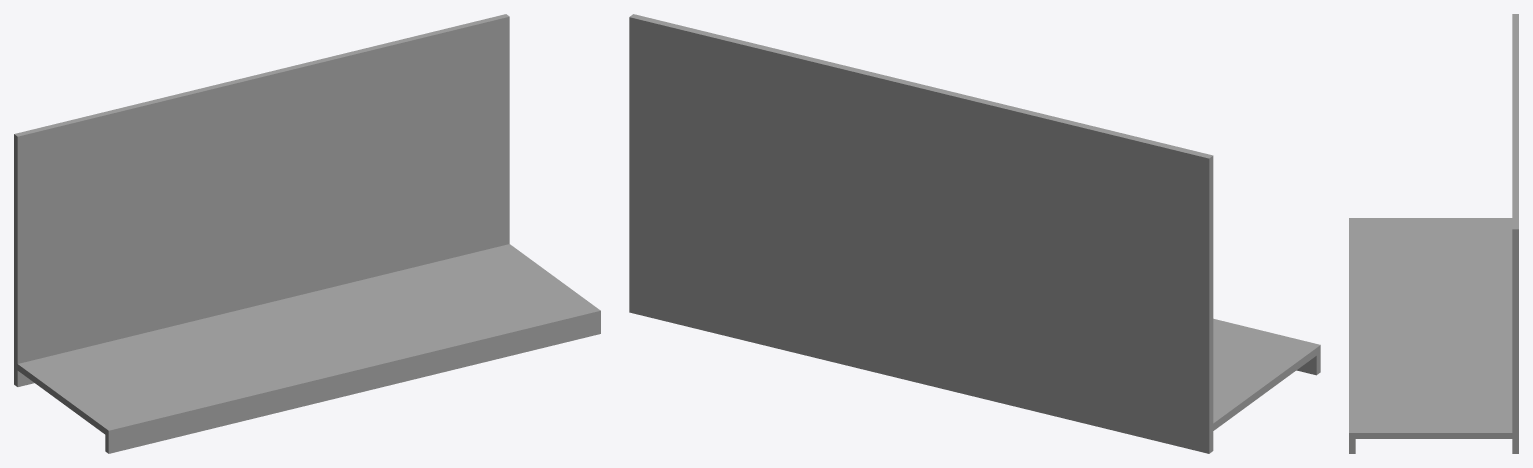
Rendered from meuble_690c0ab61576c.glb.
3 views of the same model, side by side, from view 1: azimuth 30°, elevation 25°; view 2: azimuth 150°, elevation 25°; view 3: azimuth 270°, elevation 25° (orthographic). The views are drawn at different scales.
Visible parts, largest first — view 1: world; view 2: world; view 3: world.
Boxes of the visible parts, <box> form: world: <box>14,14,600,453</box>; world: <box>629,14,1320,453</box>; world: <box>1349,14,1518,453</box>.
Bounding box in the file's own units: 1.5 × 0.73 × 0.5.
Materials: 1 (1 with a texture image).
